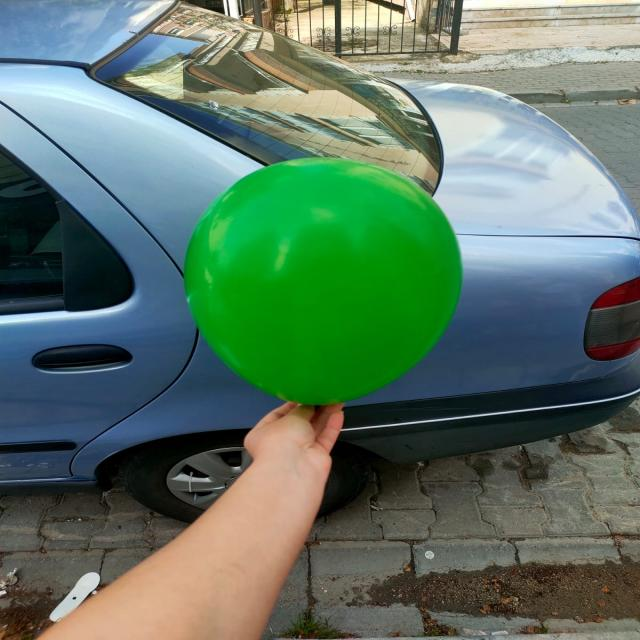green: (190, 158, 463, 409)
